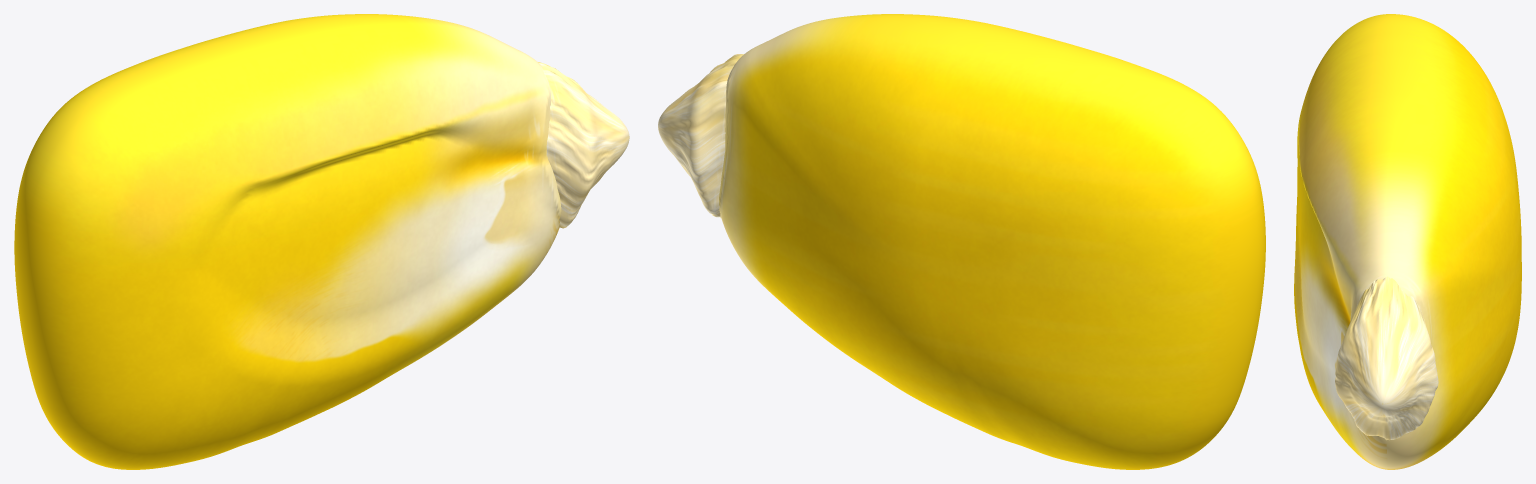
The model's file is corn-kernel.glb.
The picture shows the model from 3 angles, left to right: view 1: azimuth 30°, elevation 25°; view 2: azimuth 150°, elevation 25°; view 3: azimuth 270°, elevation 25°; orthographic projection. The views are drawn at different scales.
Parts seen in each view (by area): view 1: Corn kernel; view 2: Corn kernel; view 3: Corn kernel.
Part boxes in pixels (x1,y1,x2,y2): Corn kernel: (14, 14, 629, 469); Corn kernel: (658, 14, 1265, 469); Corn kernel: (1294, 14, 1521, 469).
Bounding box in the file's own units: 1 × 0.6274 × 0.35.
Materials: 1 (1 with a texture image).
